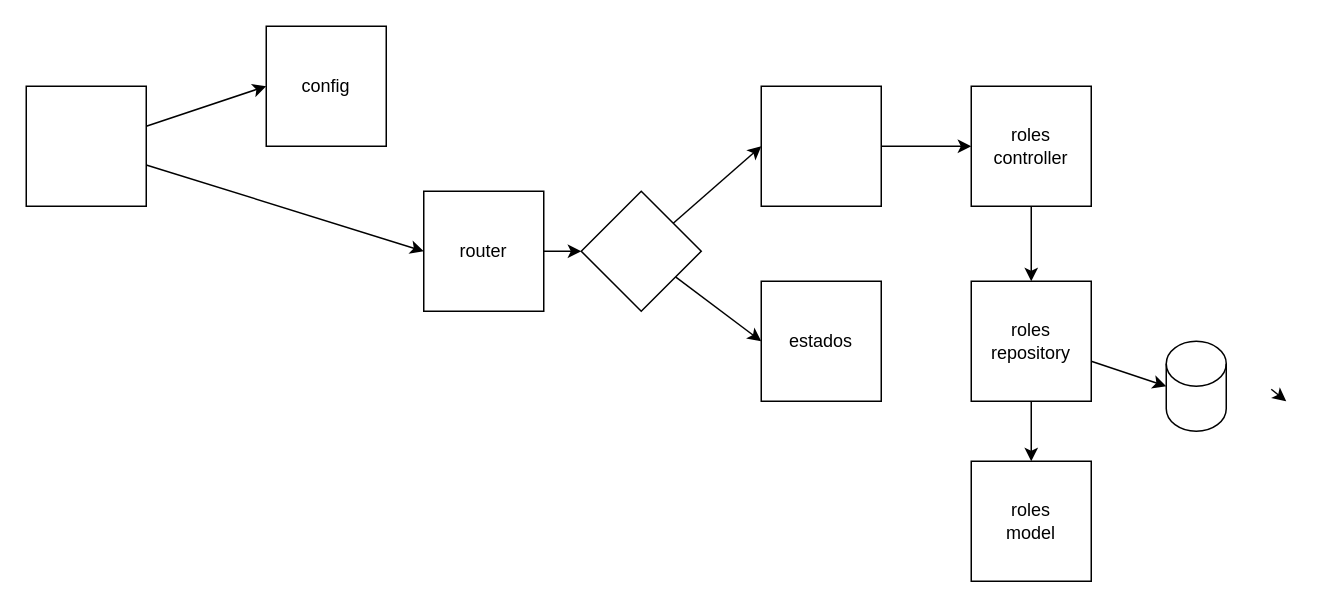
The diagram is 1325 pixels wide and 608 high, and some of its shapes have lost their labels. Here are the shapes that lost their labels. From the top down, the centre of each, then its label:
[85,145]: api
[820,145]: roles router
[1195,385]: banco
